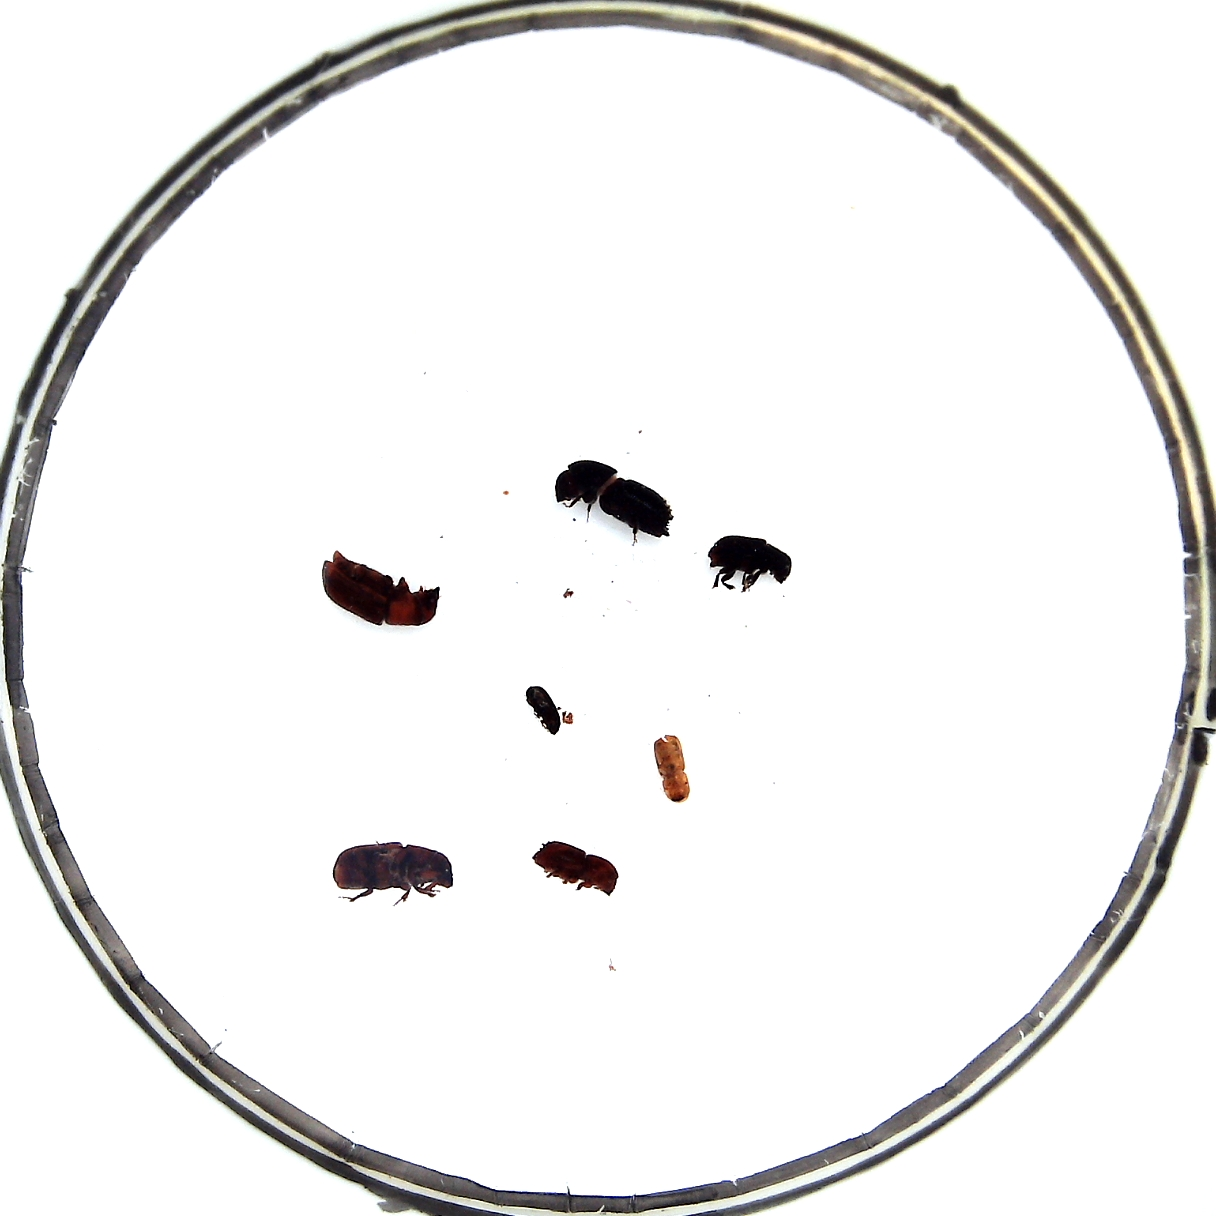Boerner: (555, 460, 673, 539)
Leconte: (322, 551, 441, 626), (332, 842, 454, 893)
acuminatus: (526, 685, 561, 735)
armandi: (708, 535, 792, 584)
coleoptera: (654, 735, 690, 802)
linnaeus: (532, 841, 619, 896)
